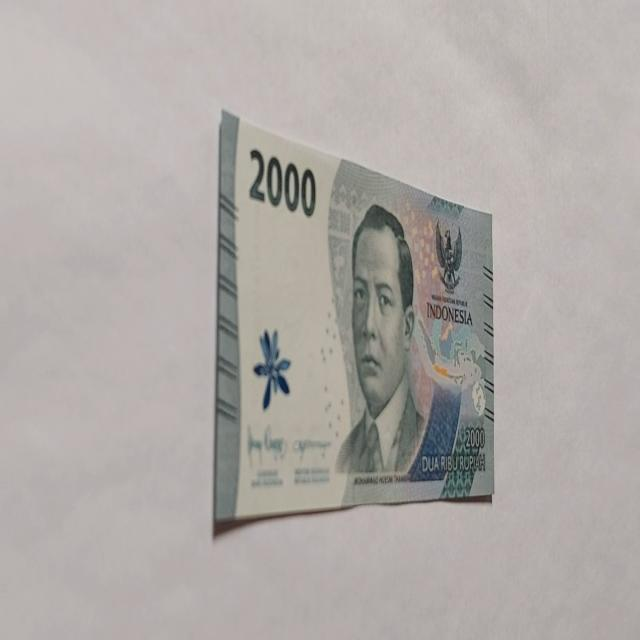dua ribu rupiah: (213, 108, 494, 530), (334, 201, 462, 490)
